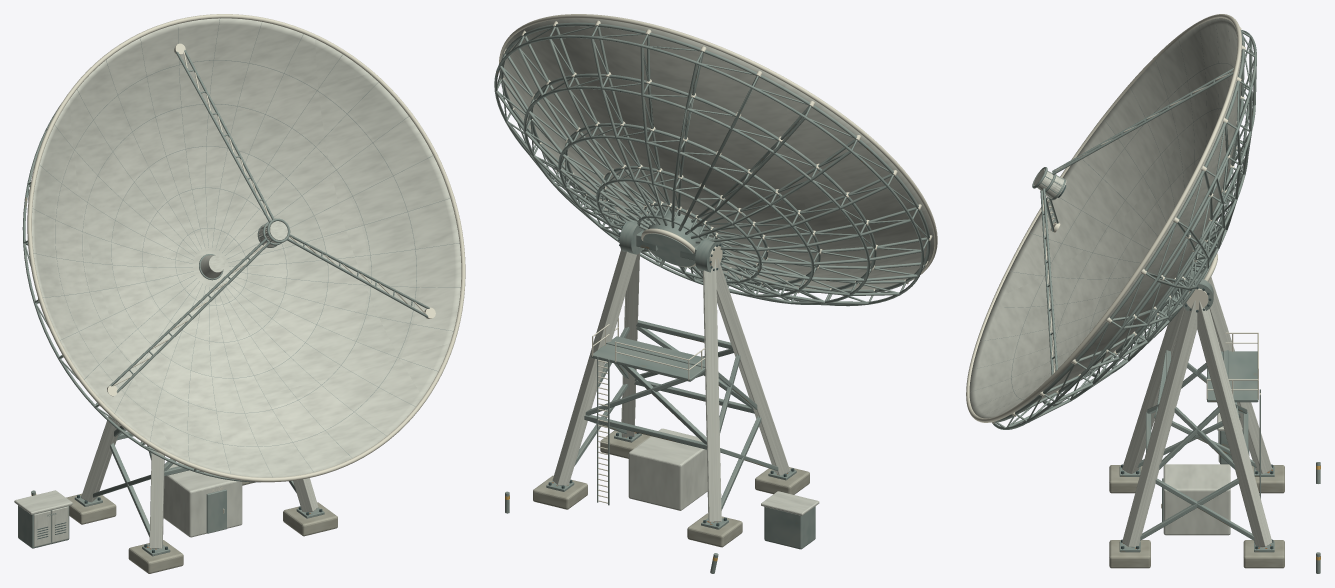
The model's file is radio_edit.glb.
The picture shows the model from 3 angles, left to right: view 1: azimuth 30°, elevation 25°; view 2: azimuth 150°, elevation 25°; view 3: azimuth 270°, elevation 25°; orthographic projection.
Visible parts, largest first — view 1: Radio; view 2: Radio, Service_Platform; view 3: Radio, Service_Platform.
Boxes of the visible parts, x1=… form: Radio: x1=14, y1=14, x2=465, y2=573; Radio: x1=494, y1=14, x2=937, y2=573; Service_Platform: x1=593, y1=336, x2=704, y2=378; Radio: x1=966, y1=14, x2=1320, y2=573; Service_Platform: x1=1208, y1=351, x2=1257, y2=398.
Size of what is drawn, in the model's own units: 24.23 by 27.56 by 17.98.
Materials: 12 (7 with a texture image).
